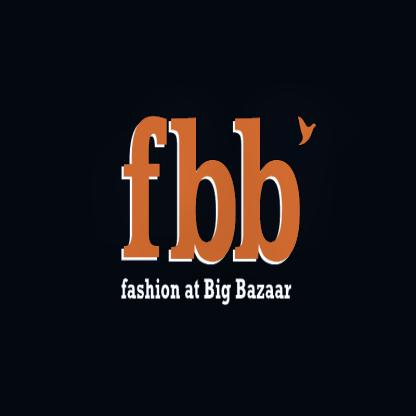Fbb: (120, 108, 317, 265)
